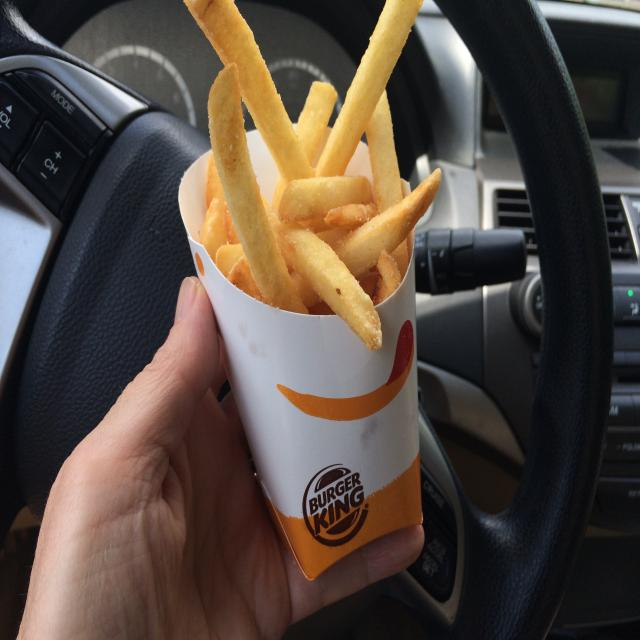Fries: (157, 4, 458, 354)
